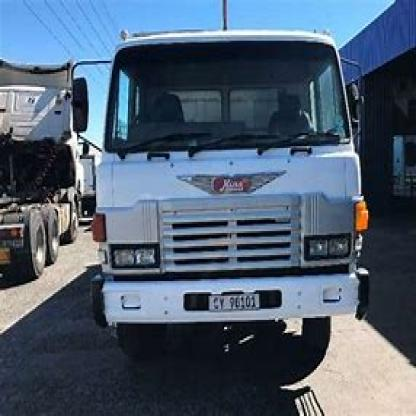dump_truck: (80, 23, 374, 338)
